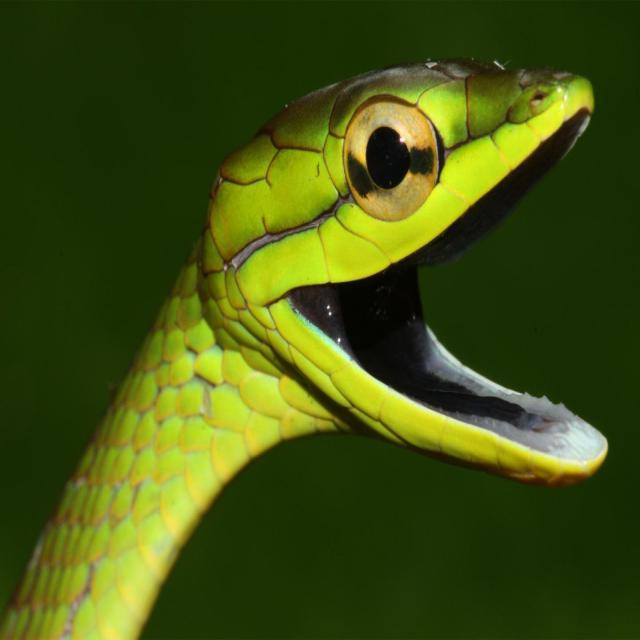Snake: (0, 46, 614, 640)
